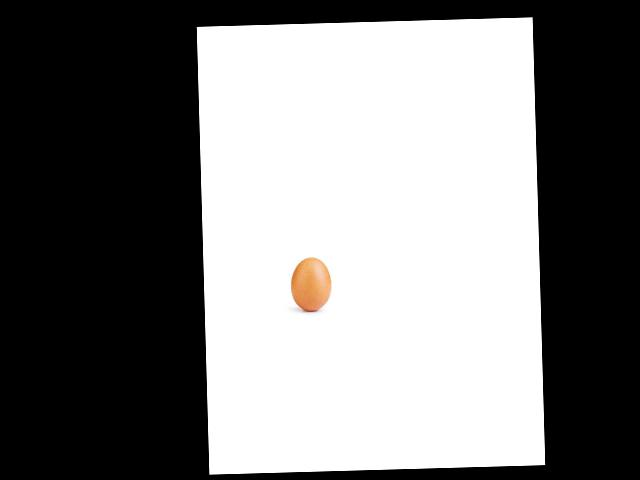egg: (290, 257, 331, 311)
